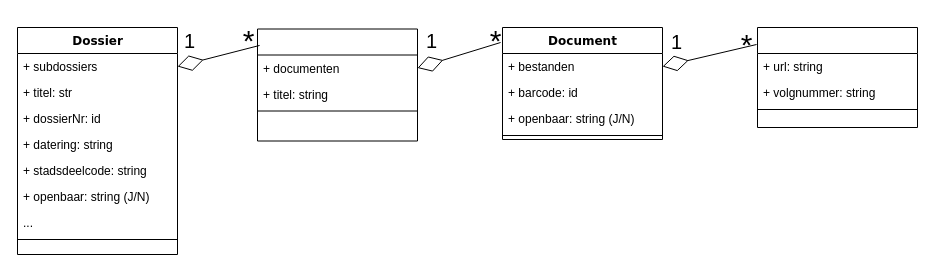
Image size: 935x272. Some labels were removed from this diagram. The shapes that lost their labels are listed below. From the top down, each one's box as (x1, y1, x2, y2) in pixels, then its label:
(256, 28, 418, 141): Subdossier
(756, 26, 918, 128): Bestand
